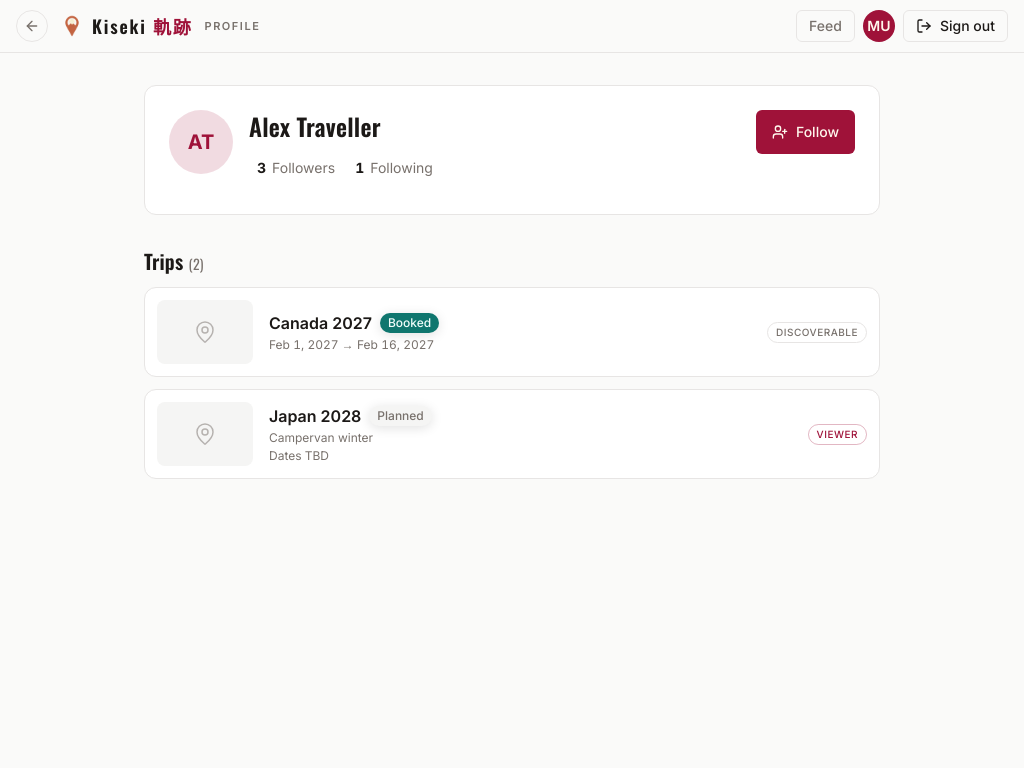
Test case: ProfilePage — a peer's profile › says truncation honestly when count exceeds the drill-in list
Click the button "3 Followers": (296, 168) [249,146,343,190]
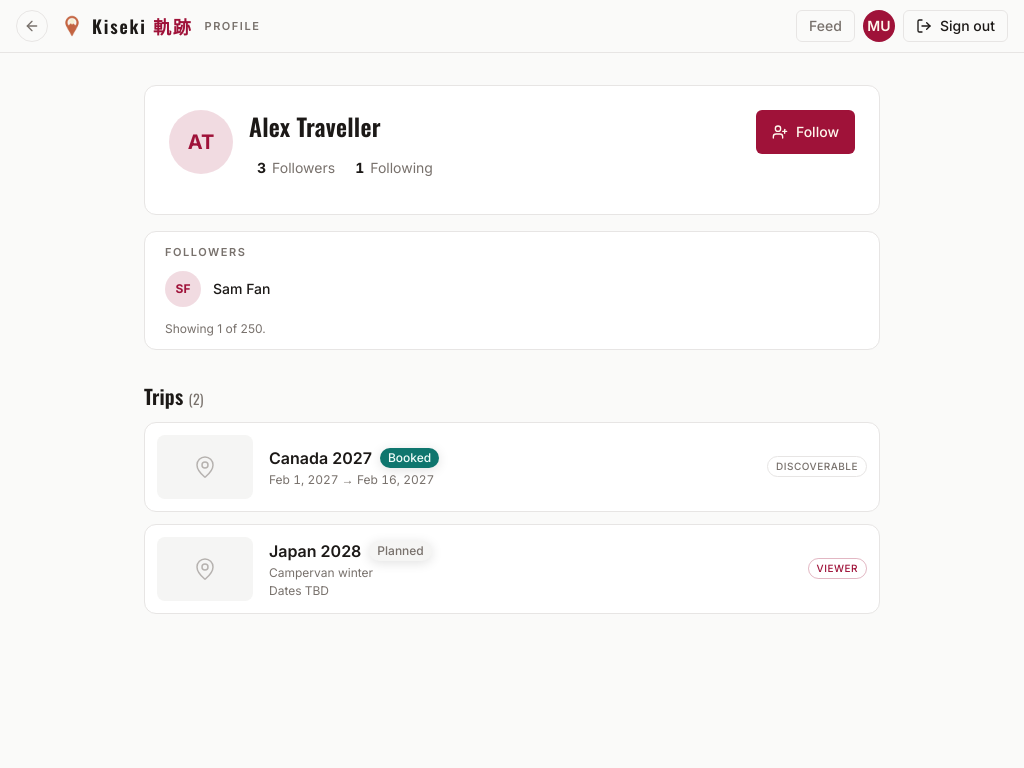
Now the text "Sam Fan" is shown, box [213,280,270,296]
Now the text "Showing 1 of 250." is shown, box [165,320,266,336]
